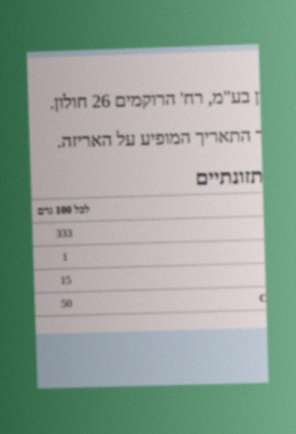carbs: (59, 296, 73, 311)
energy: (55, 226, 74, 241)
fat: (59, 273, 73, 287)
protein: (61, 250, 69, 264)
